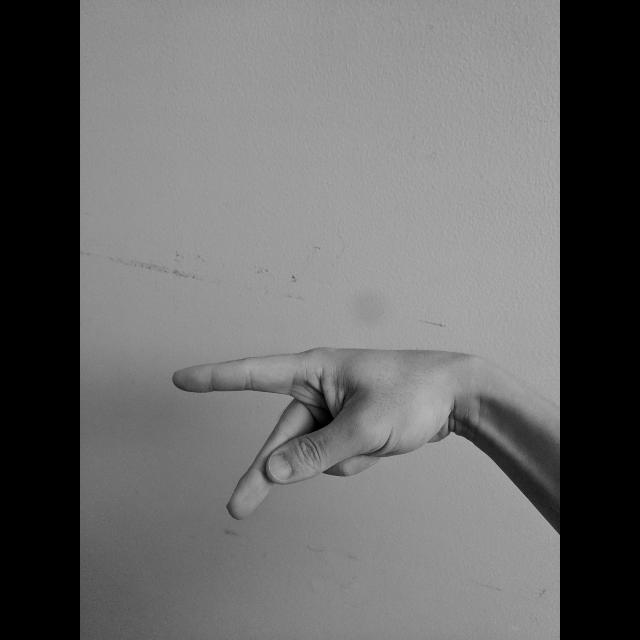P: (170, 342, 466, 524)
